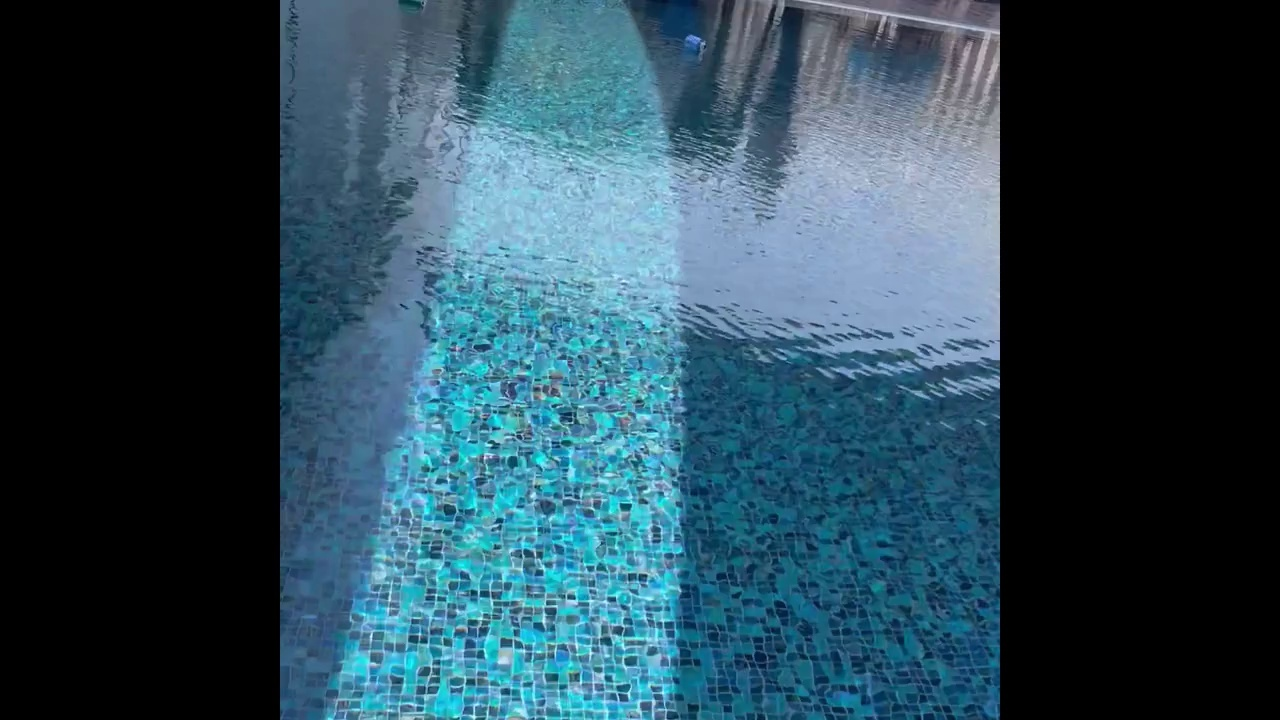debris: (682, 31, 708, 54)
